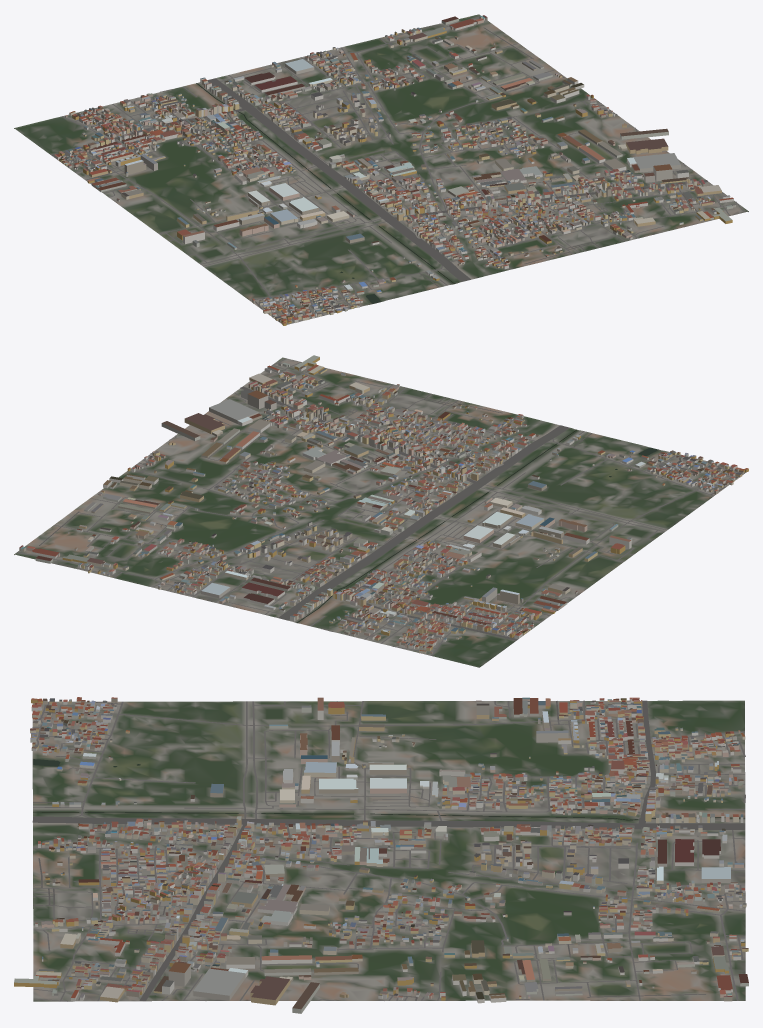
3 views of the same model, one above another, from view 1: azimuth 30°, elevation 25°; view 2: azimuth 150°, elevation 25°; view 3: azimuth 270°, elevation 25° (orthographic). The views are drawn at different scales.
Visible parts, largest first — view 1: ground, buildings, roads; view 2: ground, buildings, roads, water; view 3: ground, buildings, roads, water.
Boxes of the visible parts, x1,y1,x2,y2 form: ground: [14, 14, 748, 324]; buildings: [54, 15, 735, 325]; roads: [51, 17, 744, 321]; ground: [14, 357, 745, 667]; buildings: [19, 355, 748, 654]; roads: [17, 358, 736, 655]; water: [297, 429, 658, 622]; ground: [32, 700, 745, 1001]; buildings: [14, 697, 748, 1013]; roads: [32, 700, 745, 1001]; water: [33, 759, 744, 820].
Size of the model in its own units: 1465 by 35.84 by 1446.
